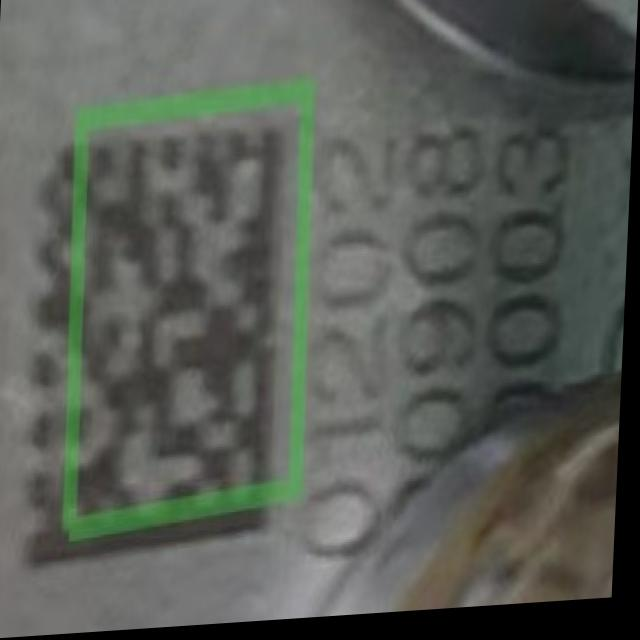dmc: (33, 134, 283, 568)
